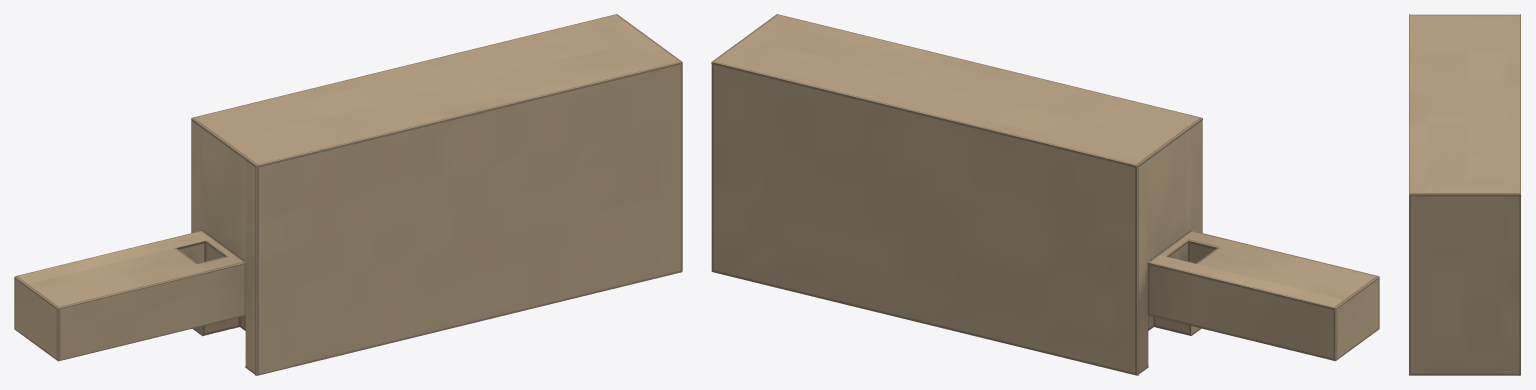
The picture shows the model from 3 angles, left to right: view 1: azimuth 30°, elevation 25°; view 2: azimuth 150°, elevation 25°; view 3: azimuth 270°, elevation 25°; orthographic projection. The views are drawn at different scales.
Parts seen in each view (by area): view 1: part-c; view 2: part-c; view 3: part-c.
Boxes of the visible parts, box(x1,y1,x2,y2) form: part-c: box(14, 14, 682, 375); part-c: box(711, 14, 1379, 375); part-c: box(1409, 14, 1521, 375).
Size of the model in its own units: 0.4908 by 0.1612 by 0.0908.
